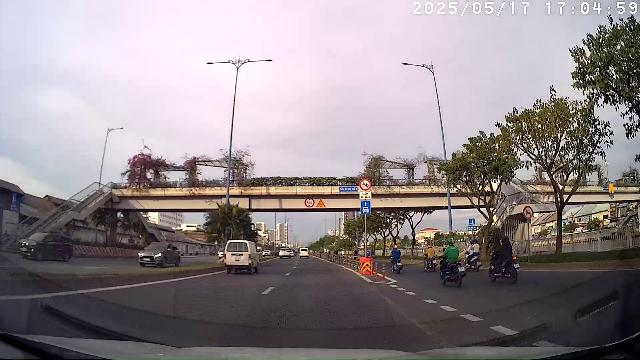103a-cam-oto: (523, 206, 533, 219)
